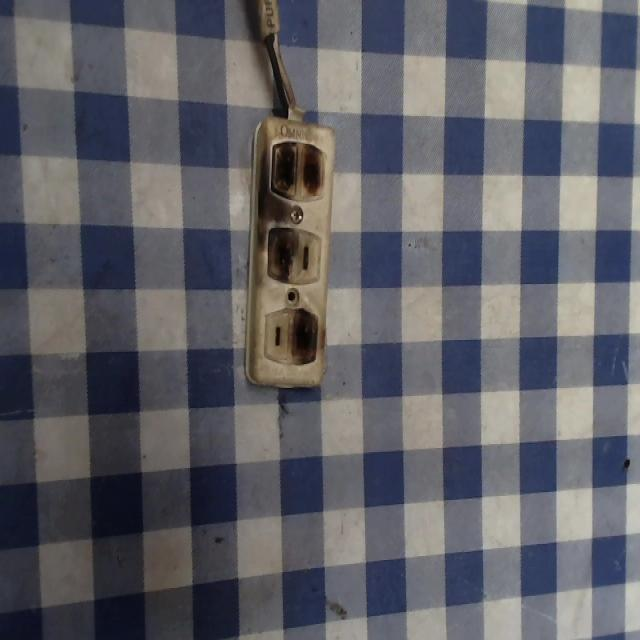-: (266, 132, 328, 205), (261, 222, 295, 278), (289, 304, 318, 367)
